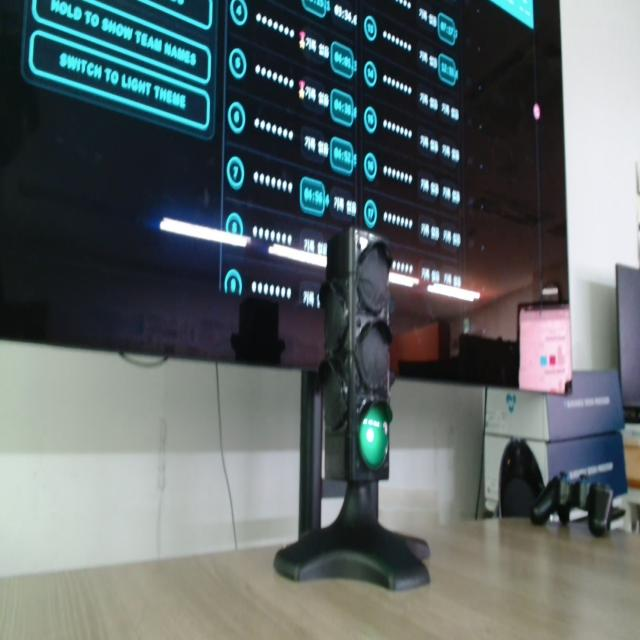green_light: (359, 403, 391, 470)
